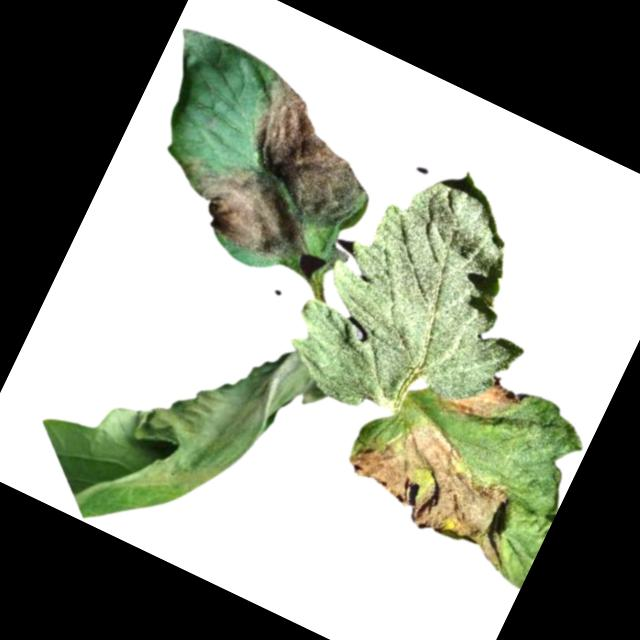Late_blight: (13, 267, 321, 582), (158, 47, 397, 286), (333, 394, 549, 569), (437, 359, 527, 435)
healthy: (273, 130, 585, 464)
